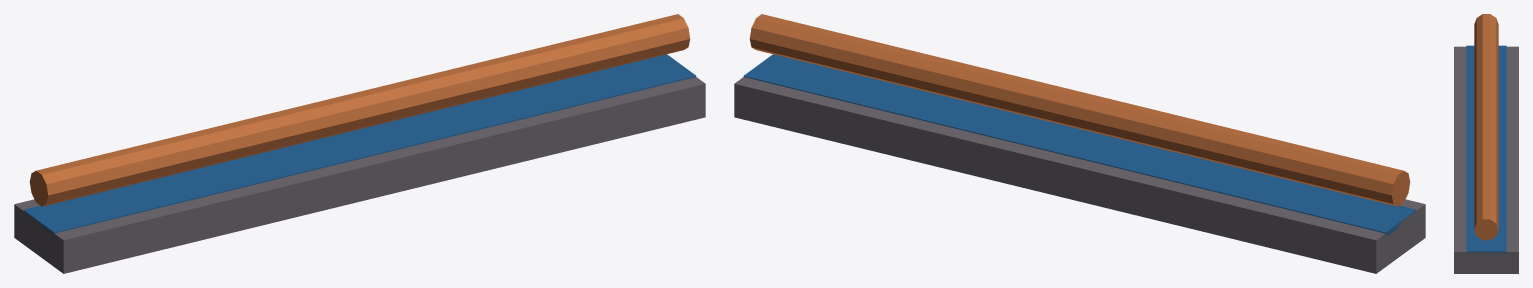
File: Prop_OR_Channel_05.glb
3 renders of one model, left to right at view 1: azimuth 30°, elevation 25°; view 2: azimuth 150°, elevation 25°; view 3: azimuth 270°, elevation 25°, orthographic. The views are drawn at different scales.
Parts seen in each view (by area): view 1: Prop_OR_Channel_05; view 2: Prop_OR_Channel_05; view 3: Prop_OR_Channel_05.
Part boxes in pixels (bbox=[...]): Prop_OR_Channel_05: bbox=[14, 14, 705, 273]; Prop_OR_Channel_05: bbox=[734, 14, 1425, 273]; Prop_OR_Channel_05: bbox=[1454, 14, 1518, 273].
Bounding box in the file's own units: 6 × 0.7427 × 0.8.
